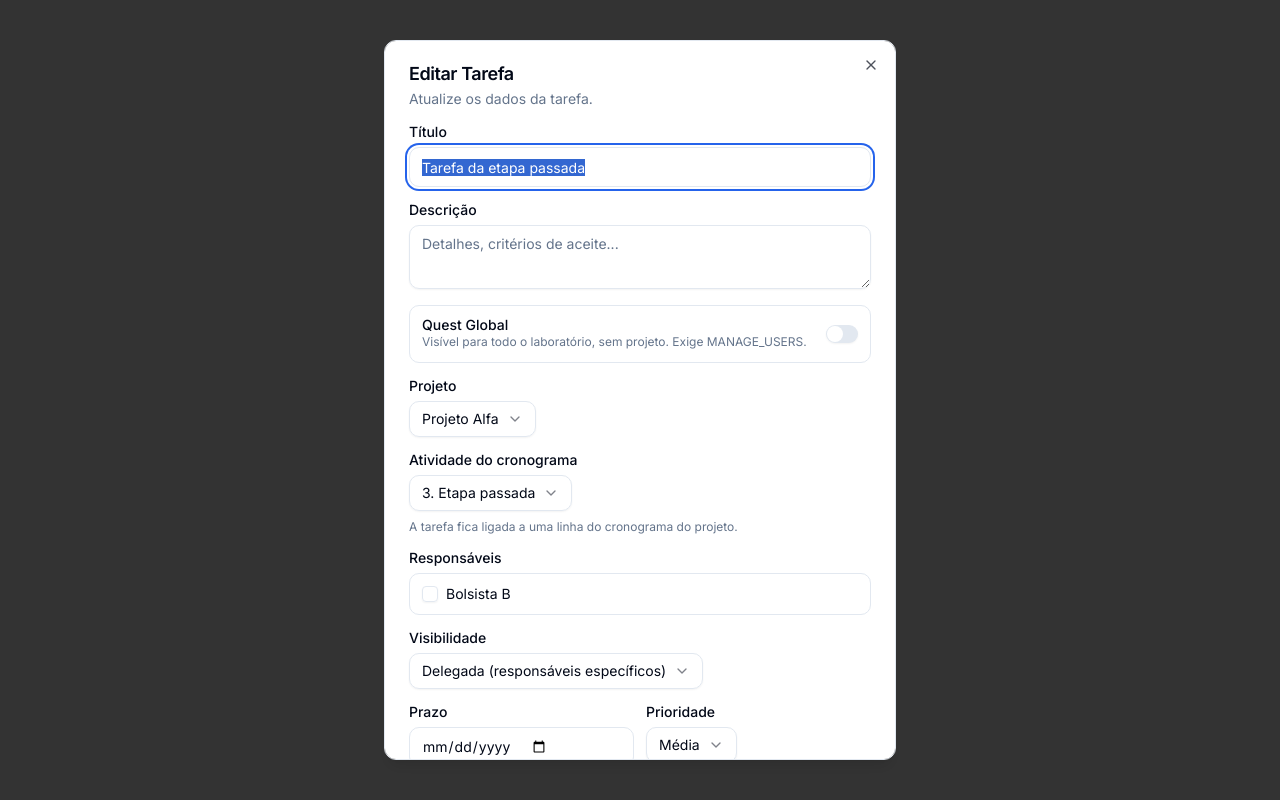
it: seletor de atividade — edição › a tarefa ligada a uma etapa que virou passada mantém o vínculo e a opção na lista
What coordinates should you click on to do the following:
click the dropdown named "Atividade da tarefa"
I would click on:
 (491, 493)
Its box is [409,475,572,511].
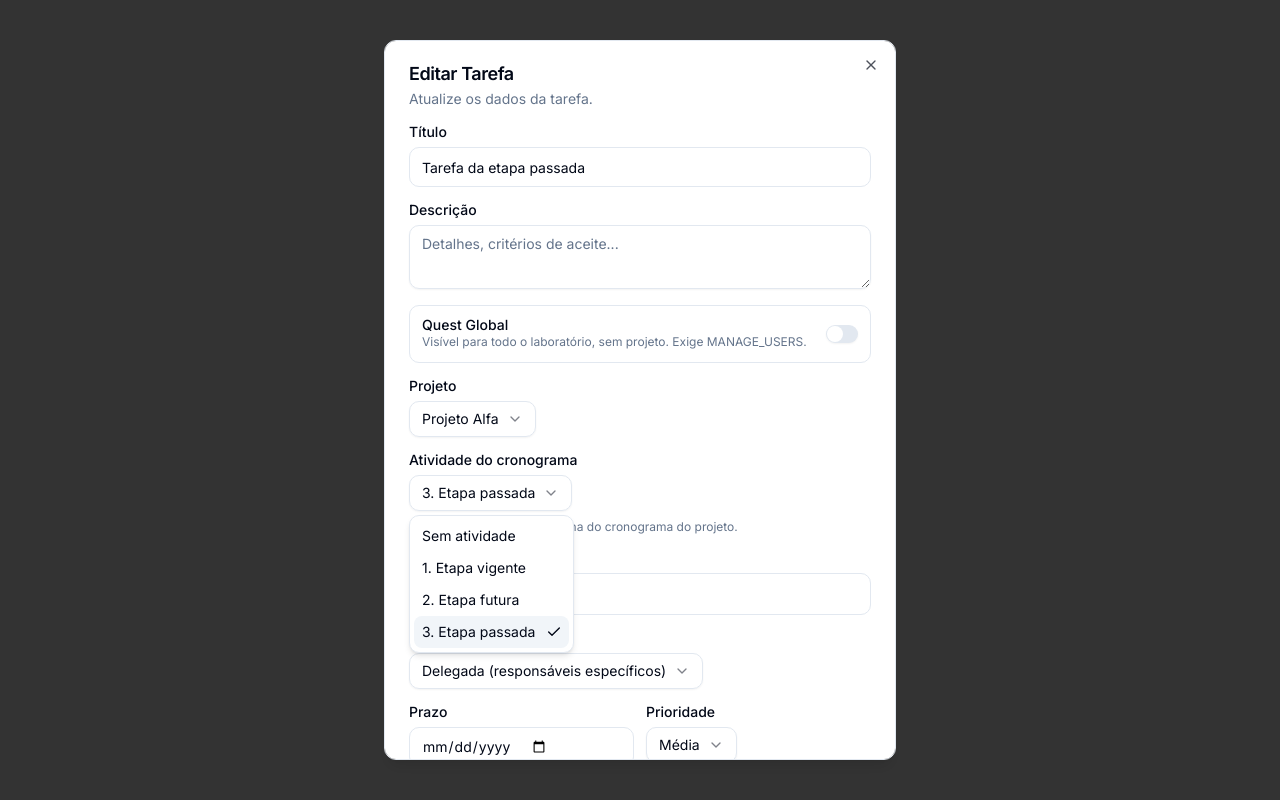
Expected: the option "3. Etapa passada" is shown, [414,616,569,648]
